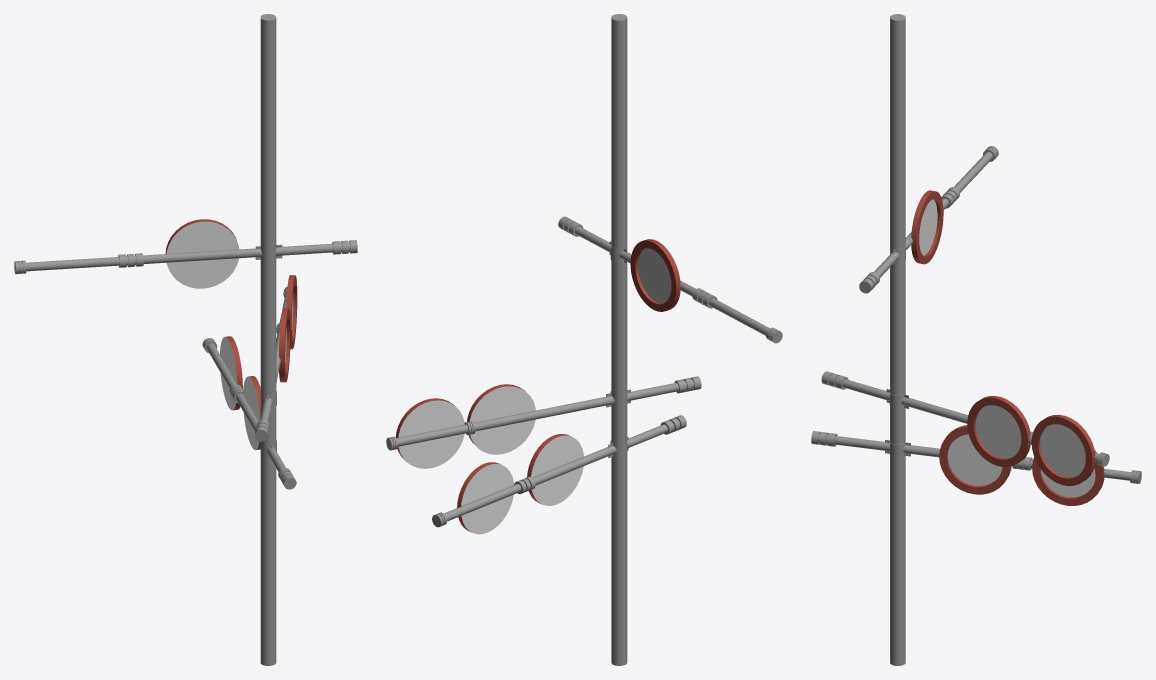
Rendered from 仅模型.fbx.
3 views of the same model, side by side, from view 1: azimuth 30°, elevation 25°; view 2: azimuth 150°, elevation 25°; view 3: azimuth 270°, elevation 25° (orthographic).
Parts seen in each view (by area): view 1: 主干, 上杆主技能, 上杆, 下杆, 下杆副技能, 中杆, 下杆主技能, 中杆主技能, 中杆副技能; view 2: 主干, 中杆副技能, 中杆主技能, 中杆, 上杆主技能, 下杆, 下杆副技能, 下杆主技能, 上杆; view 3: 主干, 中杆副技能, 中杆主技能, 下杆主技能, 下杆, 上杆主技能, 中杆, 下杆副技能, 上杆.
Boxes of the visible parts, x1,y1,x2,y2 form: 主干: [260, 14, 276, 665]; 上杆主技能: [165, 219, 239, 288]; 上杆: [14, 240, 357, 274]; 下杆: [202, 338, 296, 489]; 下杆副技能: [220, 336, 242, 410]; 中杆: [255, 286, 287, 441]; 下杆主技能: [243, 376, 260, 450]; 中杆主技能: [279, 308, 290, 382]; 中杆副技能: [286, 275, 297, 349]; 主干: [611, 14, 627, 665]; 中杆副技能: [396, 398, 464, 468]; 中杆主技能: [467, 384, 535, 454]; 中杆: [386, 376, 701, 450]; 上杆主技能: [630, 239, 680, 311]; 下杆: [432, 415, 686, 527]; 下杆副技能: [457, 462, 513, 534]; 下杆主技能: [527, 434, 583, 505]; 上杆: [558, 216, 782, 343]; 主干: [890, 14, 905, 665]; 中杆副技能: [1031, 414, 1095, 485]; 中杆主技能: [967, 396, 1030, 466]; 下杆主技能: [939, 425, 1011, 494]; 下杆: [811, 431, 1141, 483]; 上杆主技能: [911, 190, 943, 264]; 中杆: [821, 371, 1109, 466]; 下杆副技能: [1032, 450, 1104, 505]; 上杆: [859, 146, 998, 293].
Size of the model in its own units: 469 by 855 by 397.
